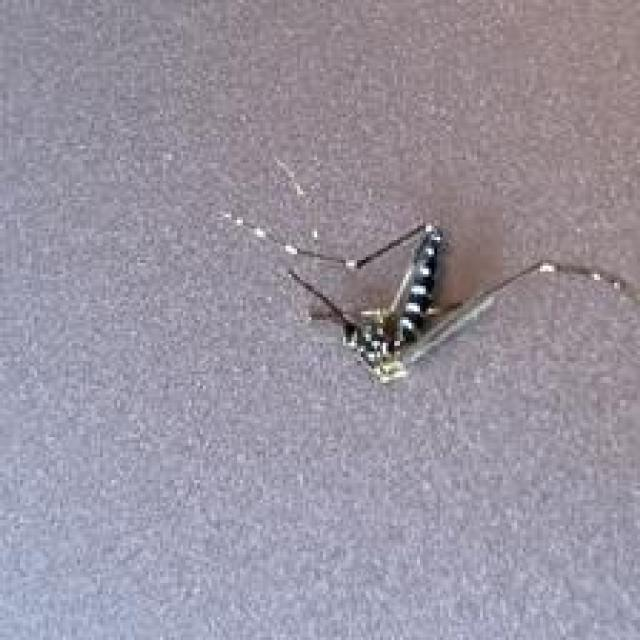Aedes albopictus: (217, 207, 640, 387)
